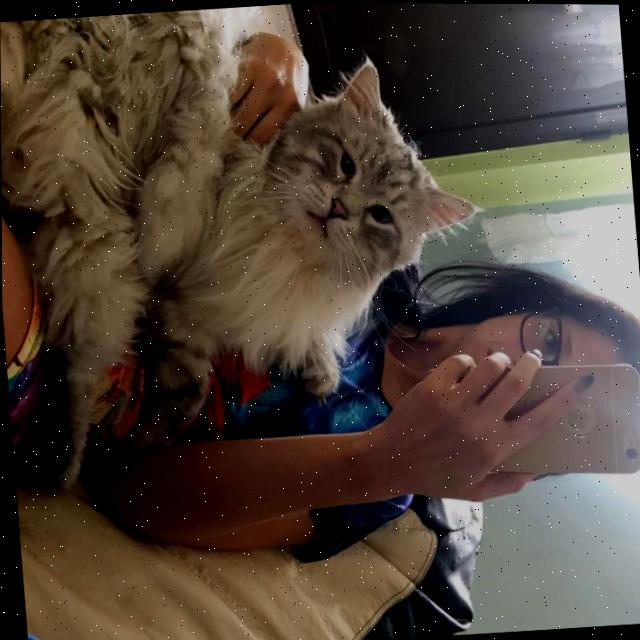Neva Masquerade: (0, 0, 498, 499)
